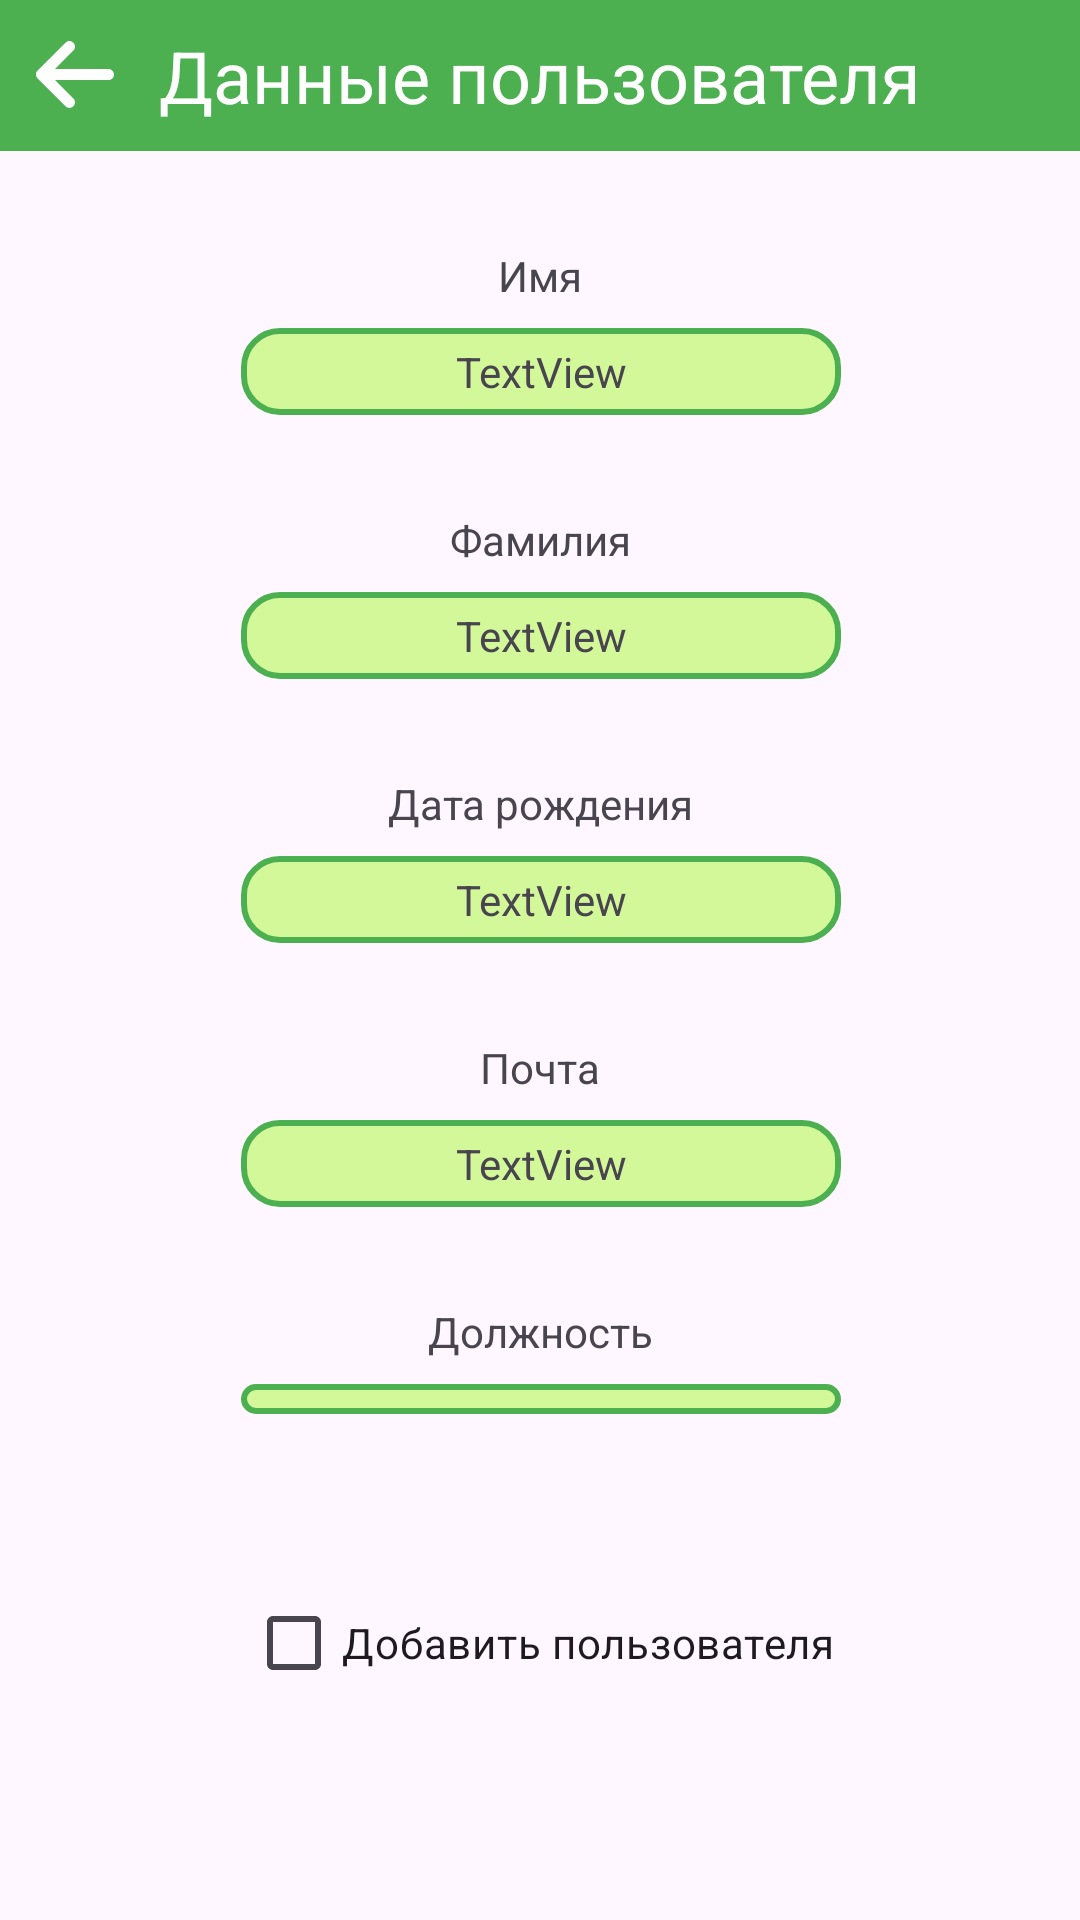

Named icons in this screenshot (1080×1920) and their bounding boxes, [x1, y1, x2, y2]:
arrow left: [36, 41, 114, 108]
